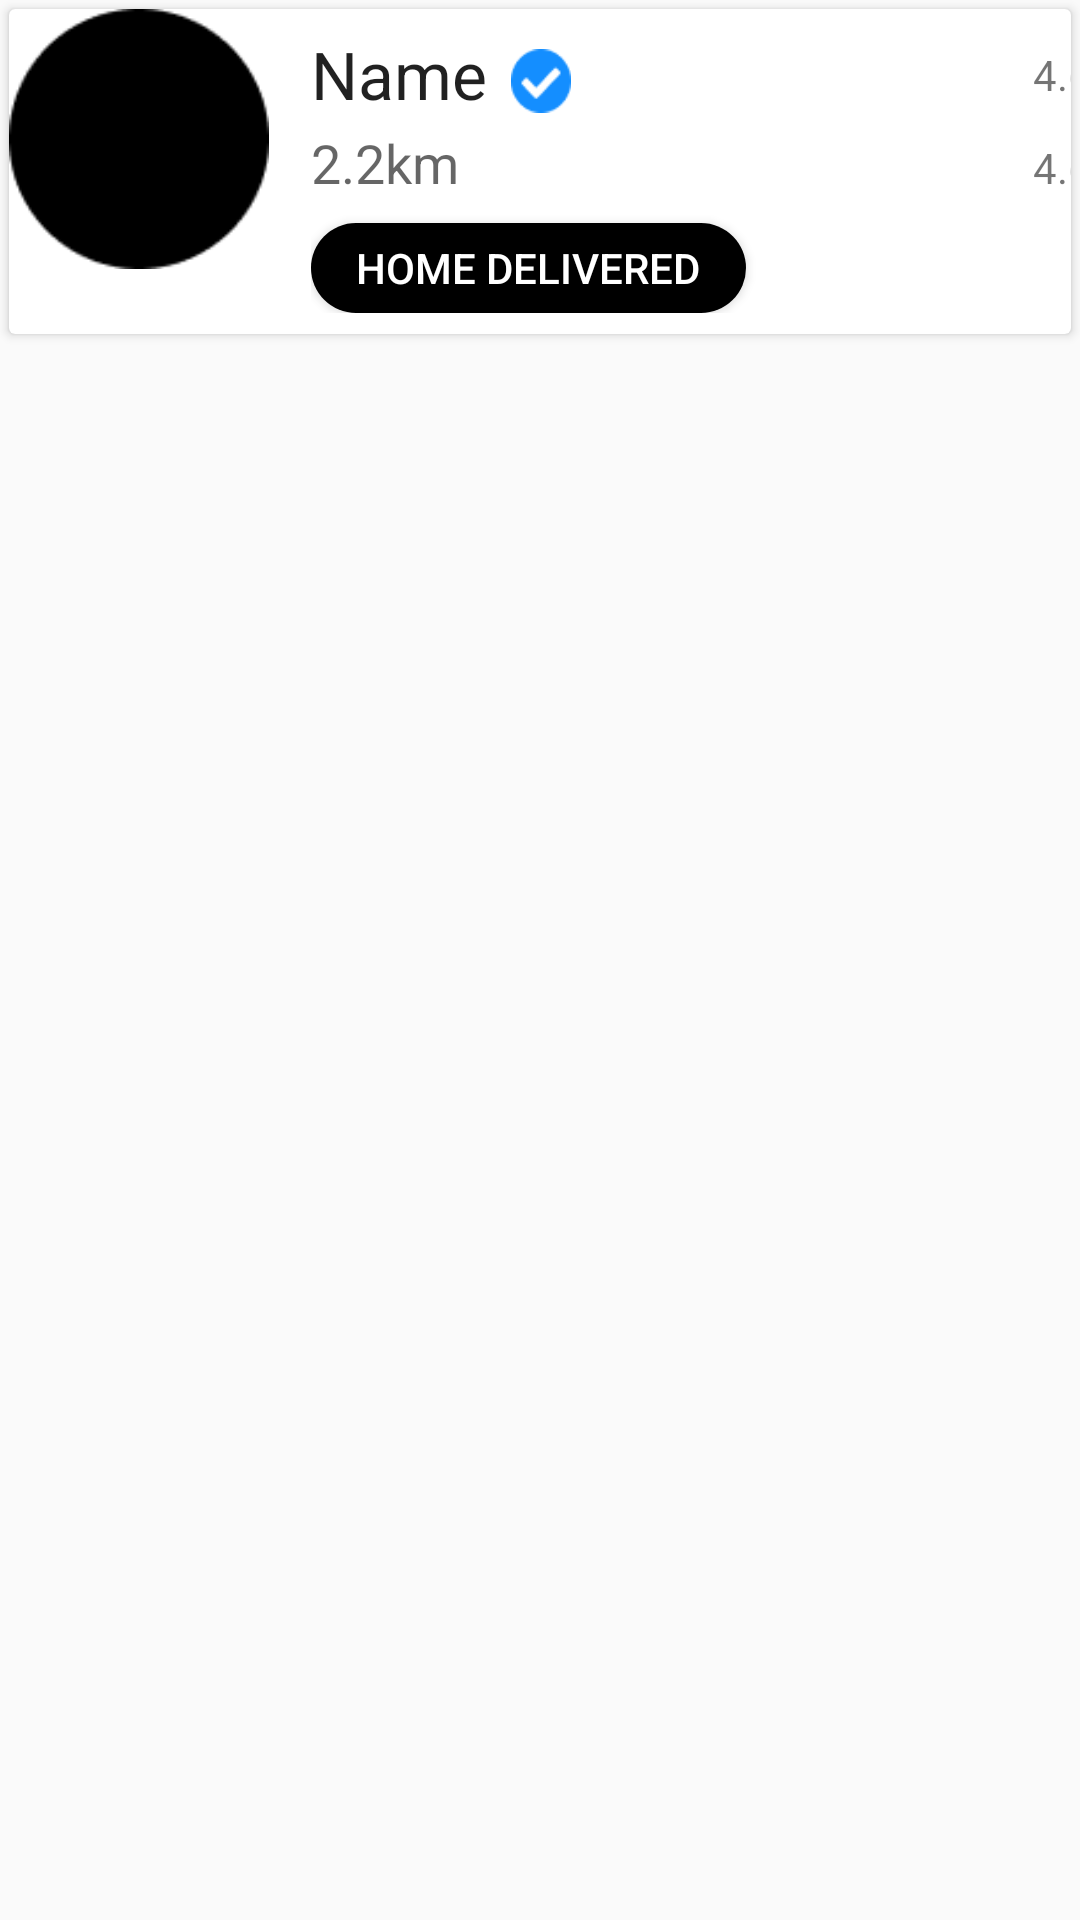

Named icons in this screenshot (1080px x 1920px) and their bounding boxes, (x1, y1, x2, y2):
verified: (511, 49, 571, 113)
